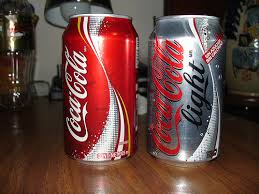can: (151, 9, 236, 173), (62, 11, 143, 170)
